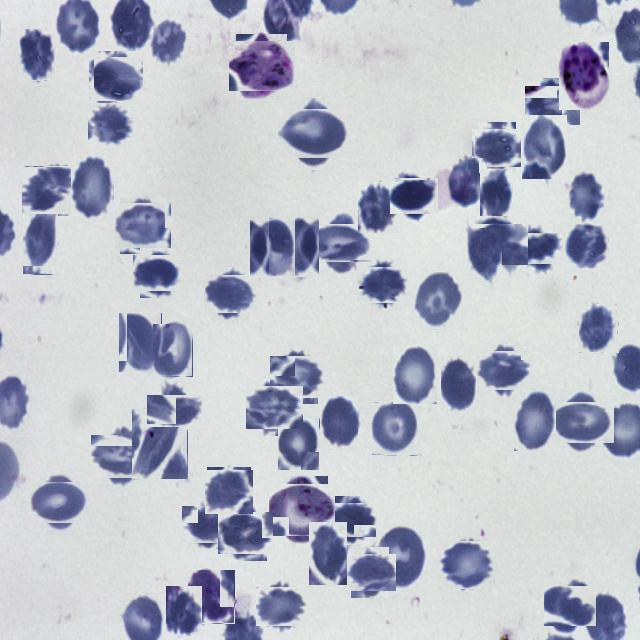red blood cell: (132, 409, 188, 480), (284, 104, 344, 164), (376, 524, 426, 588), (520, 115, 566, 179), (554, 396, 608, 450), (414, 272, 464, 330), (441, 538, 494, 592), (71, 156, 115, 221), (96, 430, 148, 484), (250, 219, 296, 277), (514, 388, 556, 451), (276, 217, 320, 277), (33, 478, 85, 528), (118, 200, 168, 252), (119, 313, 162, 373), (393, 346, 437, 404), (316, 218, 366, 268), (250, 382, 300, 432), (372, 402, 418, 456), (91, 54, 140, 104), (475, 220, 524, 269), (222, 508, 270, 558), (309, 522, 347, 585), (23, 208, 59, 274), (480, 347, 528, 395), (273, 352, 321, 400), (528, 82, 576, 130), (278, 418, 320, 471), (205, 468, 252, 515), (23, 167, 70, 214), (563, 222, 609, 270), (89, 101, 135, 148), (153, 324, 193, 377), (547, 582, 593, 628), (566, 170, 605, 224), (441, 356, 478, 412), (208, 271, 254, 316), (259, 583, 304, 629), (320, 396, 358, 450), (358, 182, 398, 233), (148, 17, 188, 68), (474, 126, 520, 170), (18, 29, 56, 81), (578, 304, 618, 353), (361, 263, 405, 307), (348, 550, 392, 594), (153, 389, 197, 433), (185, 502, 228, 546), (136, 251, 180, 294), (446, 158, 486, 205), (468, 228, 502, 282), (332, 499, 374, 542), (393, 174, 435, 217), (166, 586, 202, 636), (516, 228, 558, 270), (479, 169, 512, 216)
ring: (272, 480, 332, 540), (188, 570, 235, 624)
schizont: (559, 42, 609, 110)
trophozoite: (232, 38, 291, 96)
